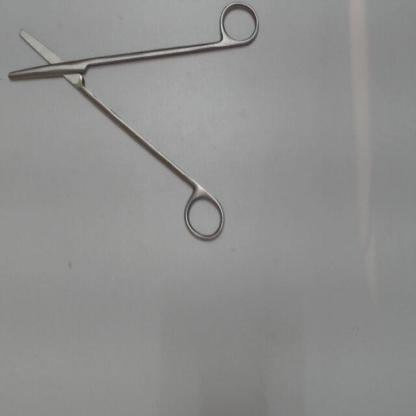9 Metzenbaum Scissors: (3, 1, 265, 252)
